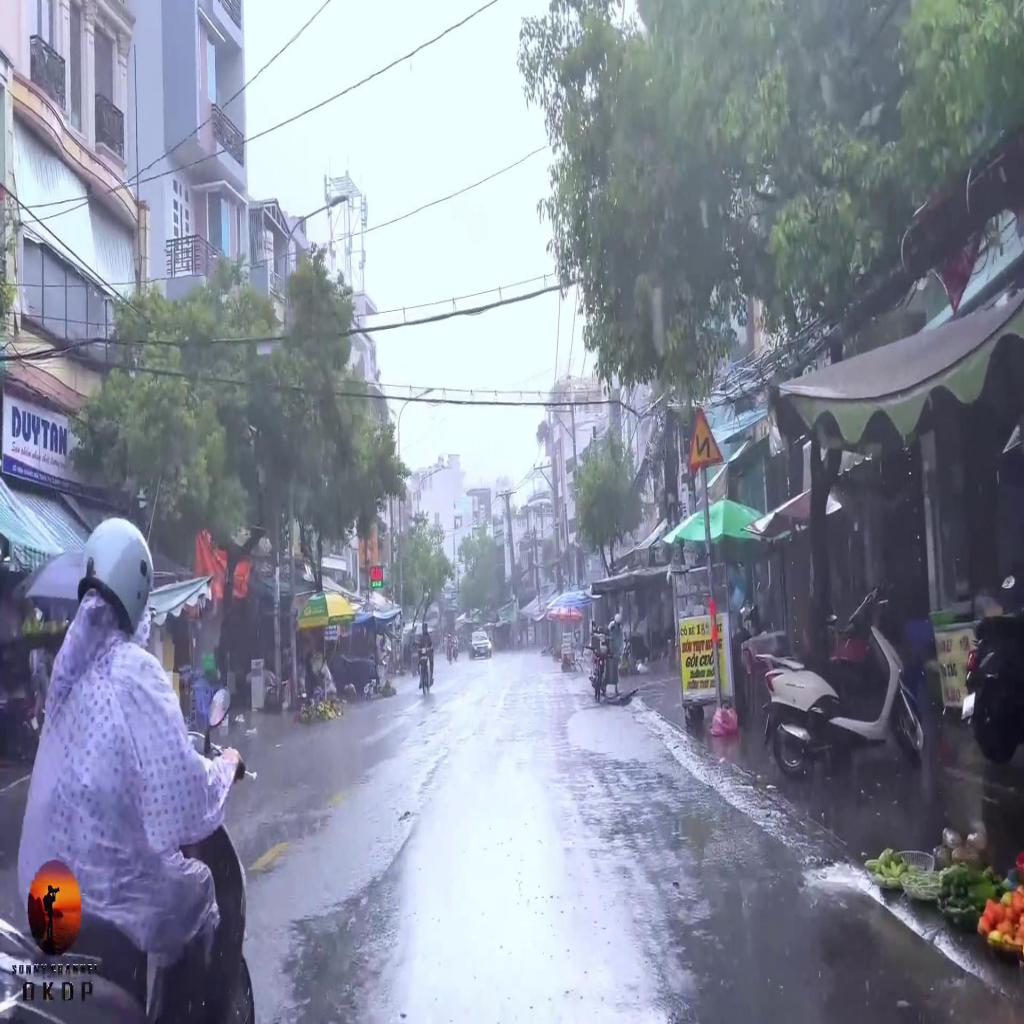cho_ngoat_nguy_hiem_lien_tiep: (686, 404, 725, 469)
